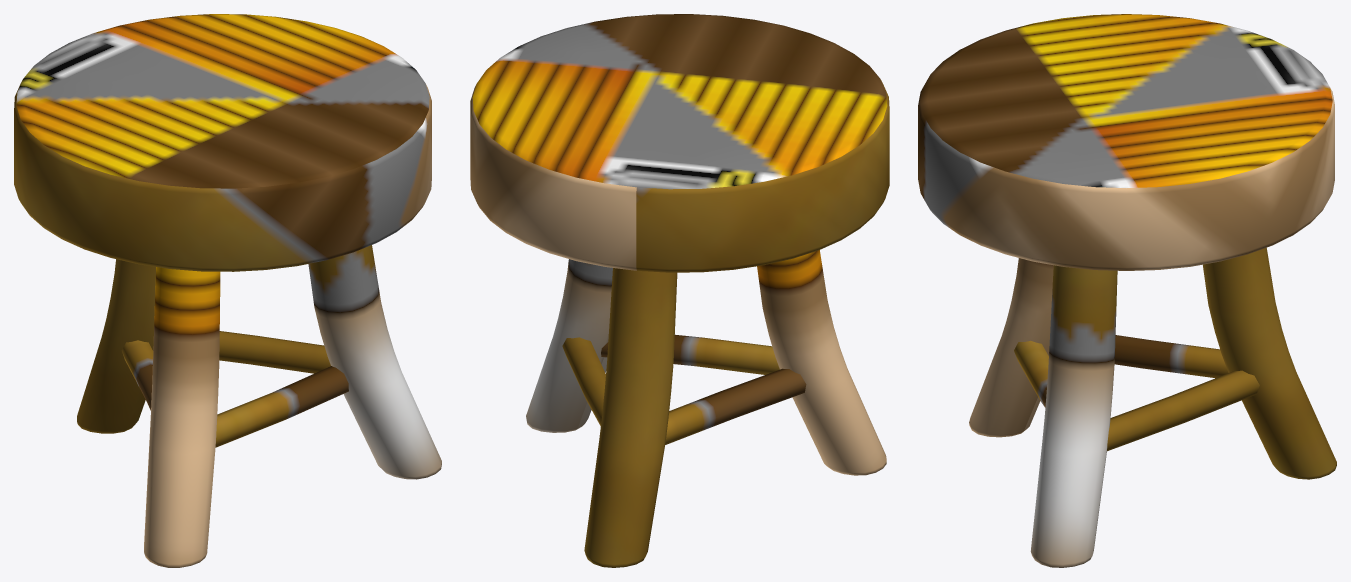
3 views of the same model, side by side, from view 1: azimuth 30°, elevation 25°; view 2: azimuth 150°, elevation 25°; view 3: azimuth 270°, elevation 25° (orthographic).
Parts seen in each view (by area): view 1: stool; view 2: stool; view 3: stool.
Part boxes in pixels (x1,y1,x2,y2): stool: (14, 14, 441, 567); stool: (470, 14, 889, 567); stool: (918, 14, 1336, 567).
Size of the model in its own units: 42.14 by 42.59 by 42.21.
